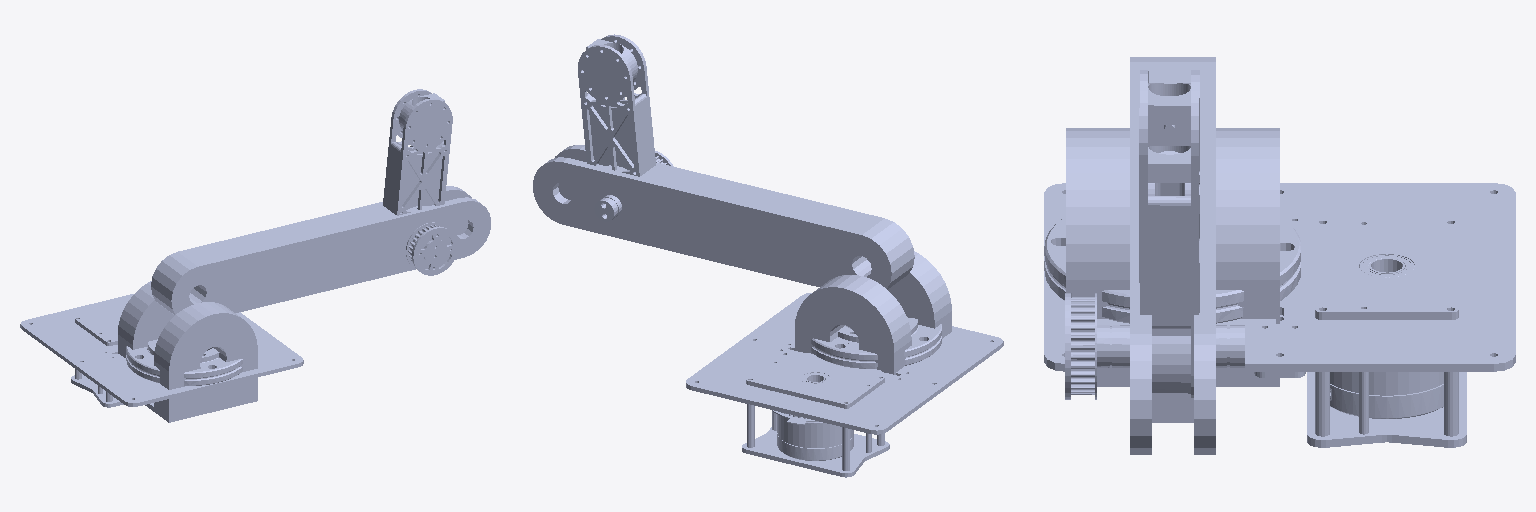
URDF robot description (rag1_urdf):
<?xml version="1.0" encoding="utf-8"?>
<!-- This URDF was automatically created by SolidWorks to URDF Exporter! Originally created by [author] ([email redacted]) 
     Commit Version: 1.6.0-4-g7f85cfe  Build Version: 1.6.7995.38578
     For more information, please see http://wiki.ros.org/sw_urdf_exporter -->
<robot
  name="rag1_urdf">
  <link
    name="base_link">
    <inertial>
      <origin
        xyz="-1.31849976402008E-05 0.0656951506509105 -0.0173908005318475"
        rpy="0 0 0" />
      <mass
        value="0.683305968410665" />
      <inertia
        ixx="0.000890187139462137"
        ixy="-1.97718495783513E-07"
        ixz="-8.57363116604806E-08"
        iyy="0.000884988878021512"
        iyz="4.77625369638664E-07"
        izz="0.00172923308299827" />
    </inertial>
    <visual>
      <origin
        xyz="0 0 0"
        rpy="0 0 0" />
      <geometry>
        <mesh
          filename="package://rag1_urdf/meshes/base_link.STL" />
      </geometry>
      <material
        name="">
        <color
          rgba="0.792156862745098 0.819607843137255 0.933333333333333 1" />
      </material>
    </visual>
    <collision>
      <origin
        xyz="0 0 0"
        rpy="0 0 0" />
      <geometry>
        <mesh
          filename="package://rag1_urdf/meshes/base_link.STL" />
      </geometry>
    </collision>
  </link>
  <link
    name="Link_1">
    <inertial>
      <origin
        xyz="-0.00072476 -0.0091715 0.051064"
        rpy="0 0 0" />
      <mass
        value="0.85721" />
      <inertia
        ixx="0.00081577"
        ixy="3.1171E-06"
        ixz="3.1074E-07"
        iyy="0.0013679"
        iyz="3.6148E-08"
        izz="0.0011156" />
    </inertial>
    <visual>
      <origin
        xyz="0 0 0"
        rpy="0 0 0" />
      <geometry>
        <mesh
          filename="package://rag1_urdf/meshes/Link_1.STL" />
      </geometry>
      <material
        name="">
        <color
          rgba="0.79216 0.81961 0.93333 1" />
      </material>
    </visual>
    <collision>
      <origin
        xyz="0 0 0"
        rpy="0 0 0" />
      <geometry>
        <mesh
          filename="package://rag1_urdf/meshes/Link_1.STL" />
      </geometry>
    </collision>
  </link>
  <joint
    name="Joint_1"
    type="continuous">
    <origin
      xyz="0 0 0.0199999999999999"
      rpy="0 0 0" />
    <parent
      link="base_link" />
    <child
      link="Link_1" />
    <axis
      xyz="0 0 1" />
  </joint>
  <link
    name="Link_2">
    <inertial>
      <origin
        xyz="0.14547 -0.00083736 5.3337E-08"
        rpy="0 0 0" />
      <mass
        value="0.39125" />
      <inertia
        ixx="0.00019198"
        ixy="7.4305E-06"
        ixz="-3.1277E-10"
        iyy="0.0014828"
        iyz="-4.9972E-10"
        izz="0.0013994" />
    </inertial>
    <visual>
      <origin
        xyz="0 0 0"
        rpy="0 0 0" />
      <geometry>
        <mesh
          filename="package://rag1_urdf/meshes/Link_2.STL" />
      </geometry>
      <material
        name="">
        <color
          rgba="0.79216 0.81961 0.93333 1" />
      </material>
    </visual>
    <collision>
      <origin
        xyz="0 0 0"
        rpy="0 0 0" />
      <geometry>
        <mesh
          filename="package://rag1_urdf/meshes/Link_2.STL" />
      </geometry>
    </collision>
  </link>
  <joint
    name="Joint_2"
    type="continuous">
    <origin
      xyz="0 0 0.059"
      rpy="0 0 0" />
    <parent
      link="Link_1" />
    <child
      link="Link_2" />
    <axis
      xyz="0.00575627201464716 0.999983432529006 0" />
  </joint>
  <link
    name="Link_3">
    <inertial>
      <origin
        xyz="0.0035968 -0.0045481 0.03447"
        rpy="0 0 0" />
      <mass
        value="0.15243" />
      <inertia
        ixx="0.00016647"
        ixy="1.2036E-07"
        ixz="-1.2437E-05"
        iyy="0.00018738"
        iyz="7.1596E-08"
        izz="4.9441E-05" />
    </inertial>
    <visual>
      <origin
        xyz="0 0 0"
        rpy="0 0 0" />
      <geometry>
        <mesh
          filename="package://rag1_urdf/meshes/Link_3.STL" />
      </geometry>
      <material
        name="">
        <color
          rgba="0.79216 0.81961 0.93333 1" />
      </material>
    </visual>
    <collision>
      <origin
        xyz="0 0 0"
        rpy="0 0 0" />
      <geometry>
        <mesh
          filename="package://rag1_urdf/meshes/Link_3.STL" />
      </geometry>
    </collision>
  </link>
  <joint
    name="Joint_3"
    type="continuous">
    <origin
      xyz="0.249995858132252 -0.00143906800366216 0"
      rpy="0 0 0" />
    <parent
      link="Link_2" />
    <child
      link="Link_3" />
    <axis
      xyz="0.00575627201464868 0.999983432529006 0" />
  </joint>
  <link
    name="Link_4">
    <inertial>
      <origin
        xyz="-0.0012975 7.4698E-06 9.5416E-09"
        rpy="0 0 0" />
      <mass
        value="0.011345" />
      <inertia
        ixx="9.8863E-07"
        ixy="-1.6766E-09"
        ixz="2.0572E-12"
        iyy="6.9731E-07"
        iyz="-6.4158E-13"
        izz="6.1521E-07" />
    </inertial>
    <visual>
      <origin
        xyz="0 0 0"
        rpy="0 0 0" />
      <geometry>
        <mesh
          filename="package://rag1_urdf/meshes/Link_4.STL" />
      </geometry>
      <material
        name="">
        <color
          rgba="0.79216 0.81961 0.93333 1" />
      </material>
    </visual>
    <collision>
      <origin
        xyz="0 0 0"
        rpy="0 0 0" />
      <geometry>
        <mesh
          filename="package://rag1_urdf/meshes/Link_4.STL" />
      </geometry>
    </collision>
  </link>
  <joint
    name="Joint_4"
    type="continuous">
    <origin
      xyz="0.0125432077794445 -7.22033121414514E-05 0.119342627444194"
      rpy="0 0 0" />
    <parent
      link="Link_3" />
    <child
      link="Link_4" />
    <axis
      xyz="-0.00575627201464868 -0.999983432529006 0" />
  </joint>
  <link
    name="Link_5">
    <inertial>
      <origin
        xyz="-0.0042676 2.4566E-05 5.5511E-17"
        rpy="0 0 0" />
      <mass
        value="0.003122" />
      <inertia
        ixx="1.832E-07"
        ixy="-3.2716E-10"
        ixz="-8.3485E-23"
        iyy="1.2636E-07"
        iyz="7.6282E-23"
        izz="1.0018E-07" />
    </inertial>
    <visual>
      <origin
        xyz="0 0 0"
        rpy="0 0 0" />
      <geometry>
        <mesh
          filename="package://rag1_urdf/meshes/Link_5.STL" />
      </geometry>
      <material
        name="">
        <color
          rgba="0.79216 0.81961 0.93333 1" />
      </material>
    </visual>
    <collision>
      <origin
        xyz="0 0 0"
        rpy="0 0 0" />
      <geometry>
        <mesh
          filename="package://rag1_urdf/meshes/Link_5.STL" />
      </geometry>
    </collision>
  </link>
  <joint
    name="Joint_5"
    type="continuous">
    <origin
      xyz="0 0 0"
      rpy="0 0 0" />
    <parent
      link="Link_4" />
    <child
      link="Link_5" />
    <axis
      xyz="0 0 1" />
  </joint>
  <link
    name="Link_6">
    <inertial>
      <origin
        xyz="0.0015 -8.6344E-06 5.5511E-17"
        rpy="0 0 0" />
      <mass
        value="9.8175E-05" />
      <inertia
        ixx="3.068E-10"
        ixy="2.9433E-13"
        ixz="-3.1068E-26"
        iyy="3.5793E-10"
        iyz="1.0097E-26"
        izz="3.5793E-10" />
    </inertial>
    <visual>
      <origin
        xyz="0 0 0"
        rpy="0 0 0" />
      <geometry>
        <mesh
          filename="package://rag1_urdf/meshes/Link_6.STL" />
      </geometry>
      <material
        name="">
        <color
          rgba="0.79216 0.81961 0.93333 1" />
      </material>
    </visual>
    <collision>
      <origin
        xyz="0 0 0"
        rpy="0 0 0" />
      <geometry>
        <mesh
          filename="package://rag1_urdf/meshes/Link_6.STL" />
      </geometry>
    </collision>
  </link>
  <joint
    name="Joint_6"
    type="continuous">
    <origin
      xyz="0 0 0"
      rpy="0 0 0" />
    <parent
      link="Link_5" />
    <child
      link="Link_6" />
    <axis
      xyz="-0.999983432529006 0.00575627201464856 0" />
  </joint>
</robot>

--- What the picture shows (computed from the rendered views, not written in the file) ---
3 views of the same robot in one strip: view 1: azimuth 30°, elevation 25°; view 2: azimuth 150°, elevation 25°; view 3: azimuth 270°, elevation 25° (orthographic).
Model rag1_urdf with 7 links and 6 joints (6 continuous), rooted at base_link, posed every joint at zero.
Links seen in each view (by area): view 1: Link_2, base_link, Link_1, Link_3; view 2: Link_2, base_link, Link_1, Link_3; view 3: base_link, Link_1, Link_3, Link_2, Link_4, Link_5.
Link boxes in pixels (bbox=[...]): Link_2: bbox=[151, 186, 490, 314]; base_link: bbox=[20, 294, 303, 407]; Link_1: bbox=[118, 281, 257, 422]; Link_3: bbox=[383, 89, 457, 275]; Link_2: bbox=[533, 145, 914, 289]; base_link: bbox=[686, 293, 1003, 477]; Link_1: bbox=[795, 251, 951, 374]; Link_3: bbox=[578, 34, 673, 221]; base_link: bbox=[1044, 183, 1515, 447]; Link_1: bbox=[1066, 128, 1279, 386]; Link_3: bbox=[1065, 70, 1244, 399]; Link_2: bbox=[1130, 57, 1215, 454]; Link_4: bbox=[1148, 83, 1190, 182]; Link_5: bbox=[1148, 125, 1190, 145].
Size in the robot's own frame: 0.43 by 0.22 by 0.2888 metres.
Meshes: 7 distinct files referenced, 7 mesh visuals loaded (7 binary STL).